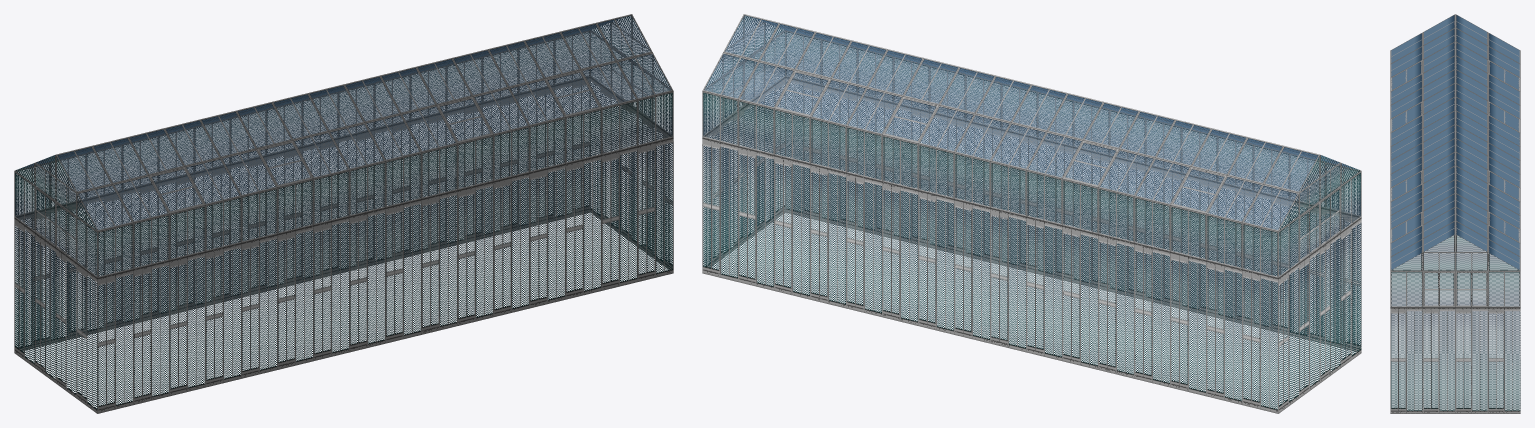
File: kas_mod1_1a.fbx
3 renders of one model, left to right at view 1: azimuth 30°, elevation 25°; view 2: azimuth 150°, elevation 25°; view 3: azimuth 270°, elevation 25°, orthographic. The views are drawn at different scales.
Parts seen in each view (by area): view 1: kas_mod1_1a; view 2: kas_mod1_1a; view 3: kas_mod1_1a.
Part boxes in pixels (x1,y1,x2,y2): kas_mod1_1a: (14, 14, 673, 413); kas_mod1_1a: (702, 14, 1361, 413); kas_mod1_1a: (1390, 14, 1520, 413).
Bounding box in the file's own units: 4000 × 1519 × 1000.
